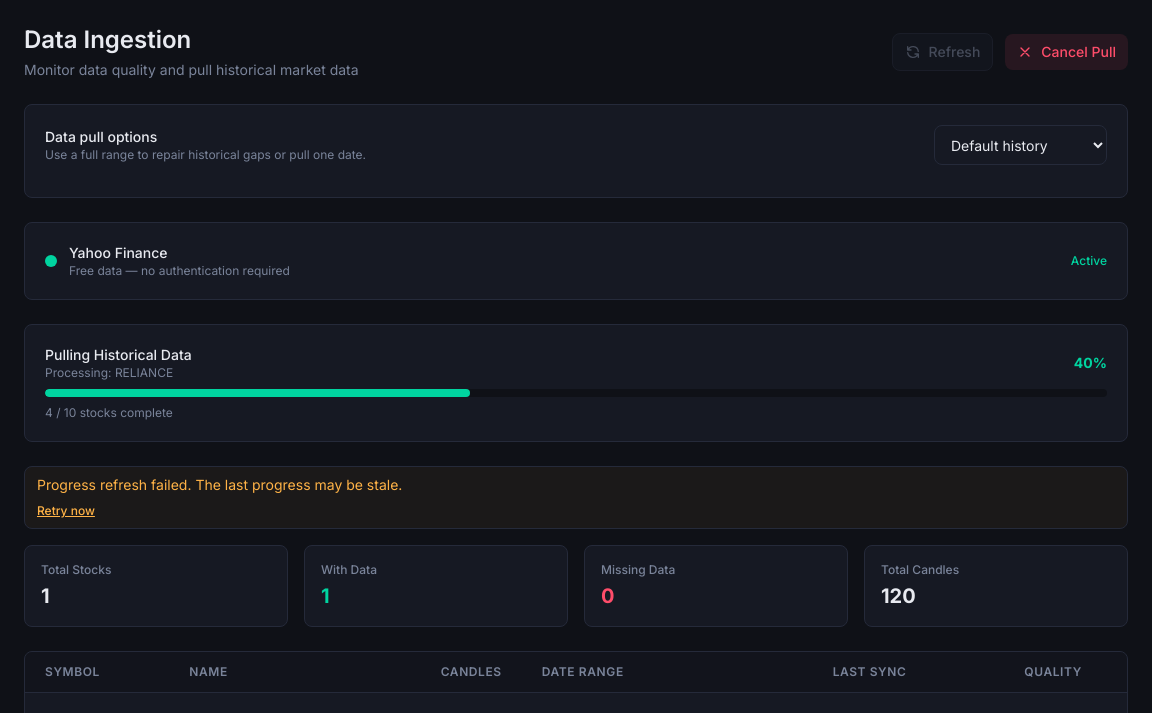
DataIngestionView — pull cancellation and polling › keeps the last progress stale, deduplicates polling warnings, and retries immediately
Click the button "Retry now" at (66, 511), box [37,503,95,519]
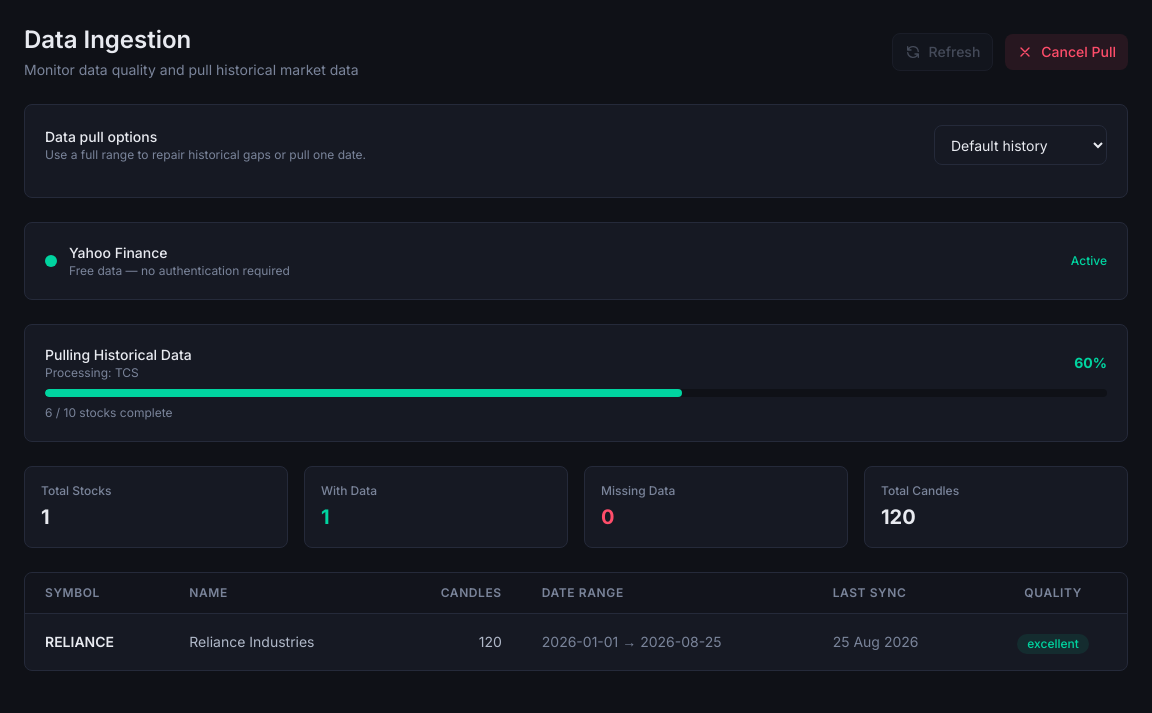
Expected: the text "60%" is shown, [1074,353,1107,373]
